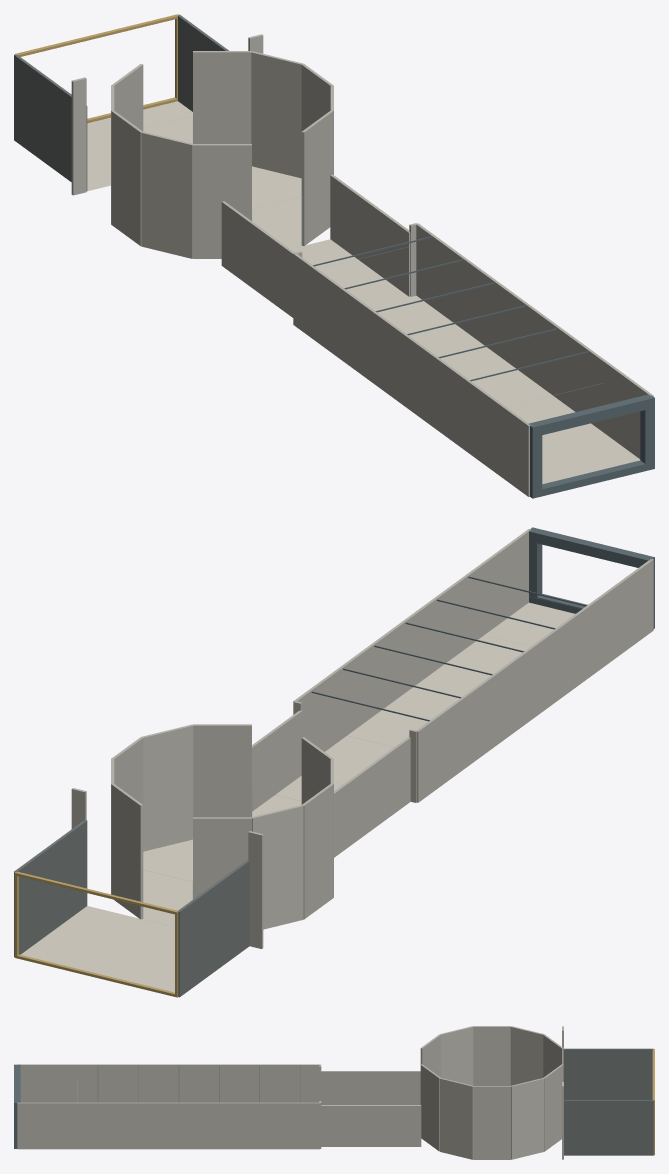
The model's file is memory-gallery.glb.
3 renders of one model, top to bottom at view 1: azimuth 30°, elevation 25°; view 2: azimuth 150°, elevation 25°; view 3: azimuth 270°, elevation 25°, orthographic. The views are drawn at different scales.
Visible parts, largest first — view 1: originals wall (×8), chronicle wall (×2), formation wall (×2), chronicle level tiled floor, waiting wall (×2), entrance wall (×2), originals level tiled floor, waiting level tiled floor, formation level tiled floor, entrance level tiled floor, Observation window head (×2), Observation window jamb (×2) (+2 smaller); view 2: originals wall (×8), chronicle wall (×2), waiting wall (×2), formation wall (×2), waiting level tiled floor, chronicle level tiled floor, entrance wall (×2), originals level tiled floor, Observation window head (×2), entrance level tiled floor, Width transition, formation level tiled floor (+2 smaller); view 3: chronicle wall (×2), originals wall (×10), waiting wall (×2), formation wall (×2), entrance wall (×2), Observation window head.
Part boxes in pixels (bbox=[...]): originals wall (×8): bbox=[111, 51, 333, 258]; chronicle wall (×2): bbox=[293, 223, 606, 462]; formation wall (×2): bbox=[221, 174, 410, 317]; chronicle level tiled floor: bbox=[369, 295, 603, 447]; waiting wall (×2): bbox=[14, 14, 228, 190]; entrance wall (×2): bbox=[481, 361, 653, 496]; originals level tiled floor: bbox=[252, 166, 301, 248]; waiting level tiled floor: bbox=[87, 101, 192, 191]; formation level tiled floor: bbox=[290, 239, 408, 306]; entrance level tiled floor: bbox=[542, 433, 640, 484]; Observation window head (×2): bbox=[16, 14, 654, 437]; Observation window jamb (×2): bbox=[528, 394, 654, 498]; originals wall (×8): bbox=[111, 724, 333, 929]; chronicle wall (×2): bbox=[293, 563, 606, 802]; waiting wall (×2): bbox=[14, 820, 249, 997]; formation wall (×2): bbox=[252, 710, 410, 857]; waiting level tiled floor: bbox=[20, 906, 174, 992]; chronicle level tiled floor: bbox=[325, 635, 530, 784]; entrance wall (×2): bbox=[482, 529, 653, 664]; originals level tiled floor: bbox=[143, 839, 192, 926]; Observation window head (×2): bbox=[14, 528, 654, 914]; entrance level tiled floor: bbox=[485, 602, 574, 646]; Width transition: bbox=[248, 831, 263, 948]; formation level tiled floor: bbox=[252, 776, 342, 816]; chronicle wall (×2): bbox=[78, 1064, 320, 1149]; originals wall (×10): bbox=[420, 1026, 563, 1159]; waiting wall (×2): bbox=[563, 1048, 653, 1155]; formation wall (×2): bbox=[320, 1071, 421, 1146]; entrance wall (×2): bbox=[17, 1064, 77, 1149]; Observation window head: bbox=[14, 1064, 20, 1108].
Bounding box in the file's own units: 14.2 × 8 × 63.44.
